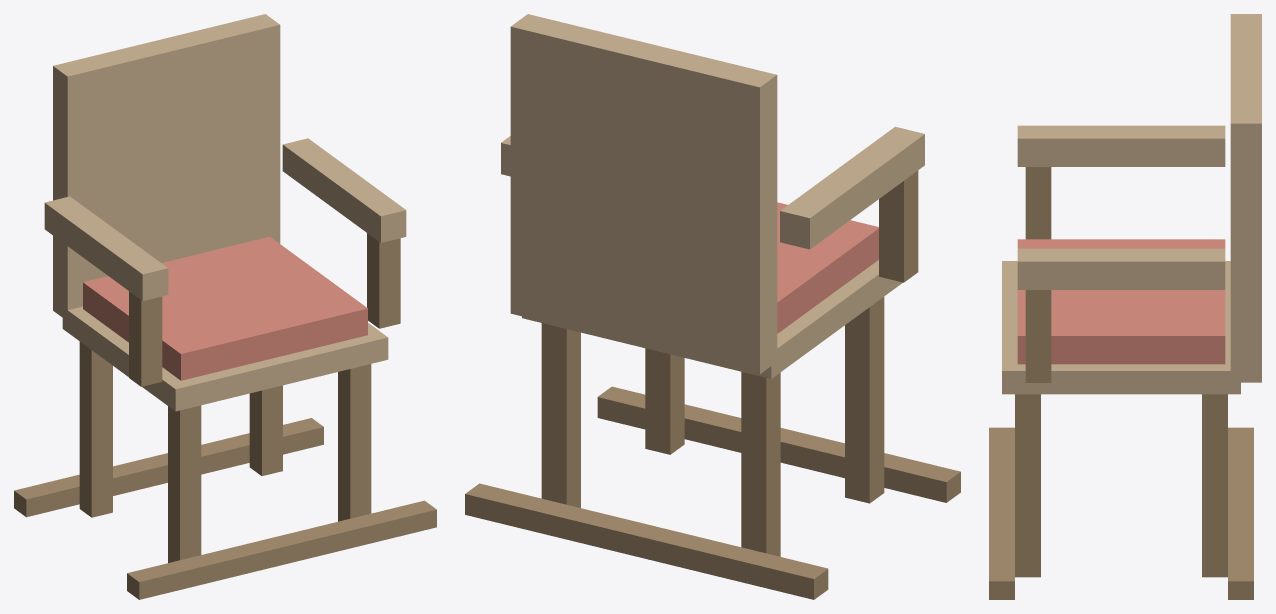
Rendered from 18-Casas_decor_mecedora.glb.
3 renders of one model, left to right at view 1: azimuth 30°, elevation 25°; view 2: azimuth 150°, elevation 25°; view 3: azimuth 270°, elevation 25°, orthographic. The views are drawn at different scales.
Parts seen in each view (by area): view 1: SM_Mecedora, SM_Mecedora_Cojin; view 2: SM_Mecedora, SM_Mecedora_Cojin; view 3: SM_Mecedora, SM_Mecedora_Cojin.
Boxes of the visible parts, x1,y1,x2,y2 form: SM_Mecedora: (14,14,436,599); SM_Mecedora_Cojin: (83,236,367,380); SM_Mecedora: (465,14,960,599); SM_Mecedora_Cojin: (777,202,878,333); SM_Mecedora: (989,14,1261,599); SM_Mecedora_Cojin: (1017,239,1225,364).
Bounding box in the file's own units: 0.7 × 0.975 × 0.525.
